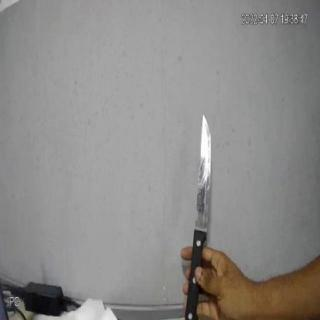knife: (183, 110, 219, 320)
